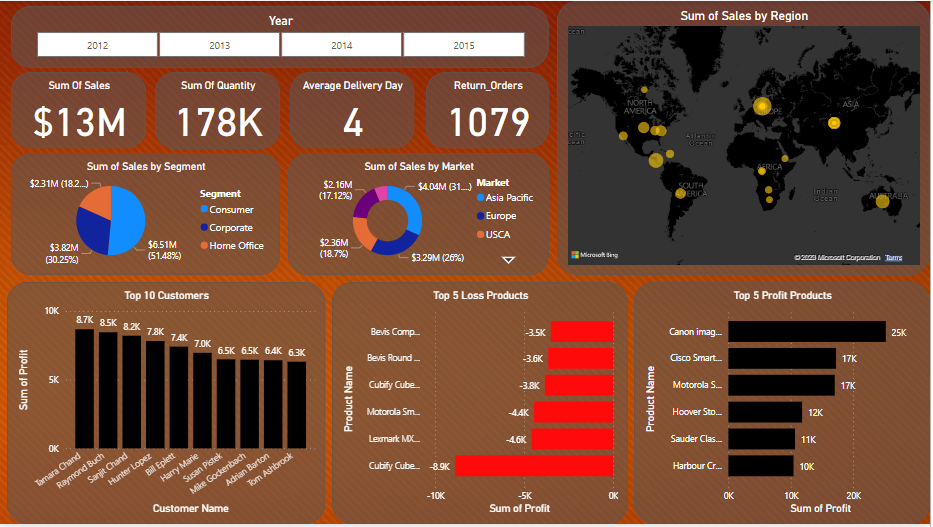

The page's visual inventory and layout, read from the dashboard file:
{"tool":"powerbi","page":{"name":"Page 1","canvas":[1280,720],"ordinal":0},"visuals":[{"type":"card","title":"Sum Of Sales","fields":{"Values":["Sum(Orders.Sales)"]},"box":[15.1,97.7,185.8,104.6],"z":0},{"type":"card","title":"Sum Of Quantity","fields":{"Values":["Sum(Orders.Quantity)"]},"box":[213.3,97.7,172,106],"z":1000},{"type":"card","title":"Average Delivery Day","fields":{"Values":["Avg(Orders.Delivery Day)"]},"box":[399.1,97.7,170.7,104.6],"z":2000},{"type":"slicer","title":"Year","fields":{"Values":["Orders.year"]},"box":[15.1,6.9,740.5,85.3],"z":3000},{"type":"card","title":"Return_Orders","fields":{"Values":["Sum(Returns.Return_orders)"]},"box":[586.3,97.7,169.3,104.6],"z":4000},{"type":"map","fields":{"Size":["Sum(Orders.Sales)"],"Category":["Orders.Region"]},"box":[766.6,0,513.4,377.1],"z":5000},{"type":"clusteredBarChart","title":"Top 5 Profit Products","fields":{"Y":["Sum(Orders.Profit)"],"Category":["Orders.Product Name"]},"box":[872.6,386.8,407.4,333.1],"z":6000},{"type":"clusteredBarChart","title":"Top 5 Loss Products","fields":{"Y":["Sum(Orders.Profit)"],"Category":["Orders.Product Name"]},"box":[456.9,386.8,407.4,333.1],"z":7000},{"type":"pieChart","fields":{"Category":["Orders.Segment"],"Y":["Sum(Orders.Sales)"]},"box":[15.1,209.2,370.2,167.9],"z":7001},{"type":"donutChart","fields":{"Y":["Sum(Orders.Sales)"],"Category":["Orders.Market"]},"box":[396.4,209.2,359.2,167.9],"z":7002},{"type":"columnChart","title":"Top 10 Customers","fields":{"Category":["Orders.Customer Name"],"Y":["Sum(Orders.Profit)"]},"box":[9.6,386.8,437.7,333.1],"z":7003}]}

Visuals, with their boxes in screenshot pixels (x1, y1, x2, y2), scaled from the page's 1280x720 canvas onto the 933x527 screenshot:
"Sum Of Sales" card: <region>11, 72, 146, 148</region>
"Sum Of Quantity" card: <region>155, 72, 281, 149</region>
"Average Delivery Day" card: <region>291, 72, 415, 148</region>
"Year" slicer: <region>11, 5, 551, 67</region>
"Return_Orders" card: <region>427, 72, 551, 148</region>
map - Sum(Orders.Sales) x Orders.Region: <region>559, 0, 932, 276</region>
"Top 5 Profit Products" clusteredBarChart: <region>636, 283, 932, 526</region>
"Top 5 Loss Products" clusteredBarChart: <region>333, 283, 630, 526</region>
pieChart - Orders.Segment x Sum(Orders.Sales): <region>11, 153, 281, 276</region>
donutChart - Sum(Orders.Sales) x Orders.Market: <region>289, 153, 551, 276</region>
"Top 10 Customers" columnChart: <region>7, 283, 326, 526</region>
